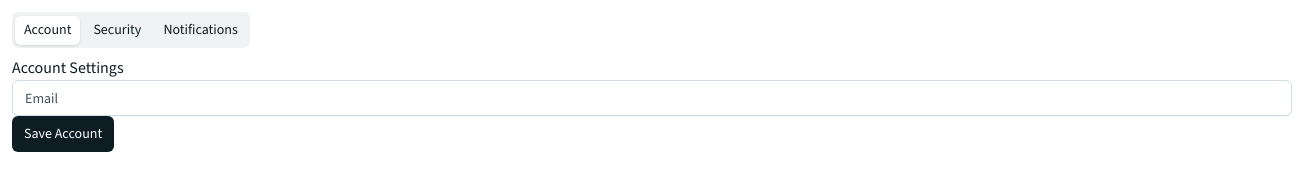
it: Navigation Integration › Tabs with content › preserves input values when switching tabs
# Enter data in account tab
Type "test@example.com" into the field with placeholder "Email". click: point(652, 98)
box: 12,80 -> 1292,116
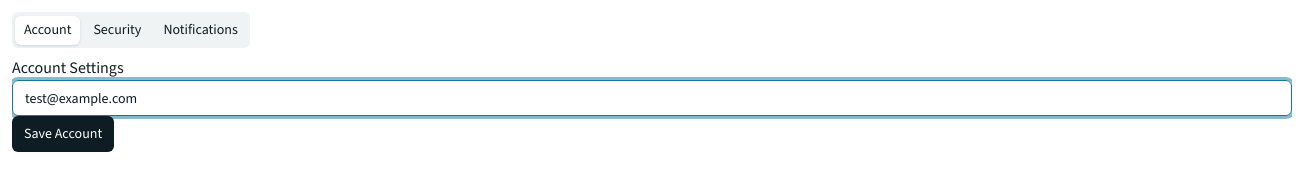
# Switch to security tab
Click the tab "Security". click: point(117, 30)
box: 84,16 -> 150,44
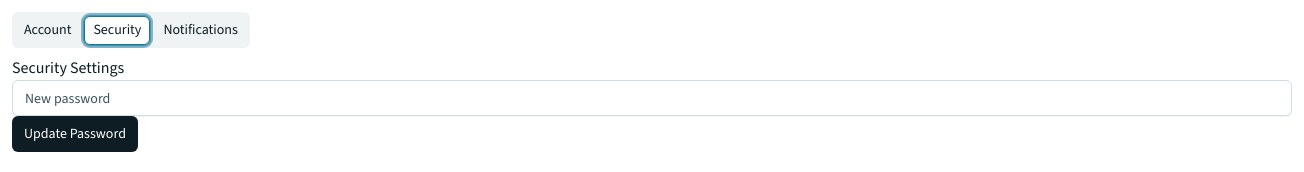
Result: the heading "Security Settings" is shown at 12,57 -> 124,78
# Switch back to account tab
Click the tab "Account". click: point(48, 30)
box: 15,16 -> 80,44
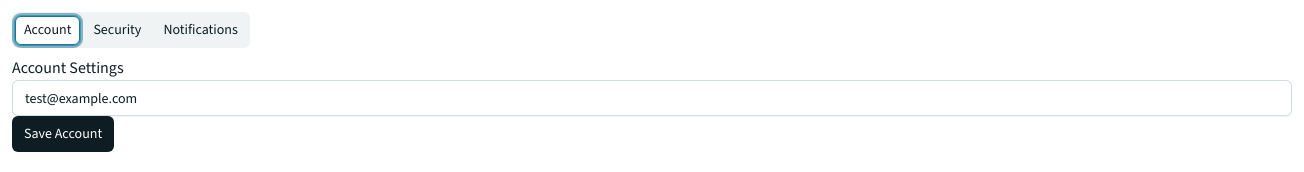
Result: the field with placeholder "Email" holds "test@example.com" at 12,80 -> 1292,116
